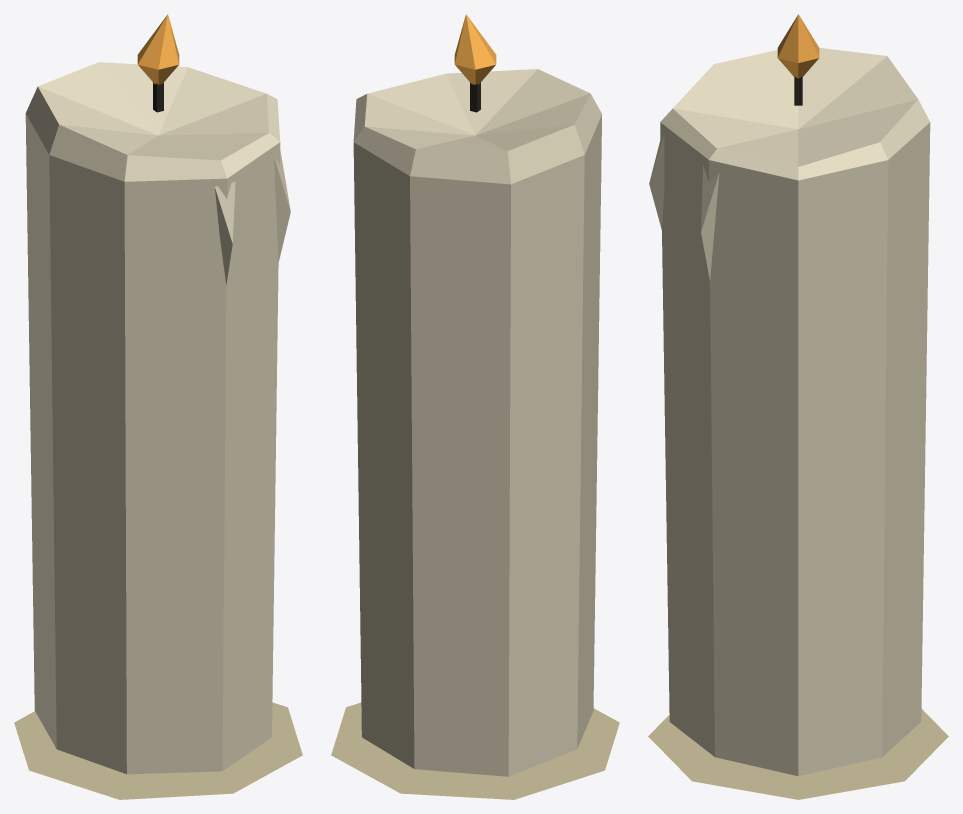
The model's file is candle_tall.glb.
3 views of the same model, side by side, from view 1: azimuth 30°, elevation 25°; view 2: azimuth 150°, elevation 25°; view 3: azimuth 270°, elevation 25° (orthographic).
Parts seen in each view (by area): view 1: Cera derretida, Charco, Llama, Gota, Gota.001; view 2: Cera derretida, Charco, Llama; view 3: Cera derretida, Charco, Llama, Gota.001, Gota.
Part boxes in pixels (bbox=[...]): Cera derretida: bbox=[25, 62, 280, 774]; Charco: bbox=[14, 702, 302, 799]; Llama: bbox=[137, 14, 179, 84]; Gota: bbox=[215, 182, 235, 284]; Gota.001: bbox=[274, 149, 290, 261]; Cera derretida: bbox=[353, 69, 601, 776]; Charco: bbox=[331, 702, 619, 799]; Llama: bbox=[454, 14, 496, 84]; Cera derretida: bbox=[660, 47, 930, 776]; Charco: bbox=[648, 709, 948, 799]; Llama: bbox=[777, 14, 819, 78]; Gota.001: bbox=[701, 165, 719, 279]; Gota: bbox=[649, 133, 664, 229].
Size of the model in its own units: 0.075 by 0.2 by 0.075.
